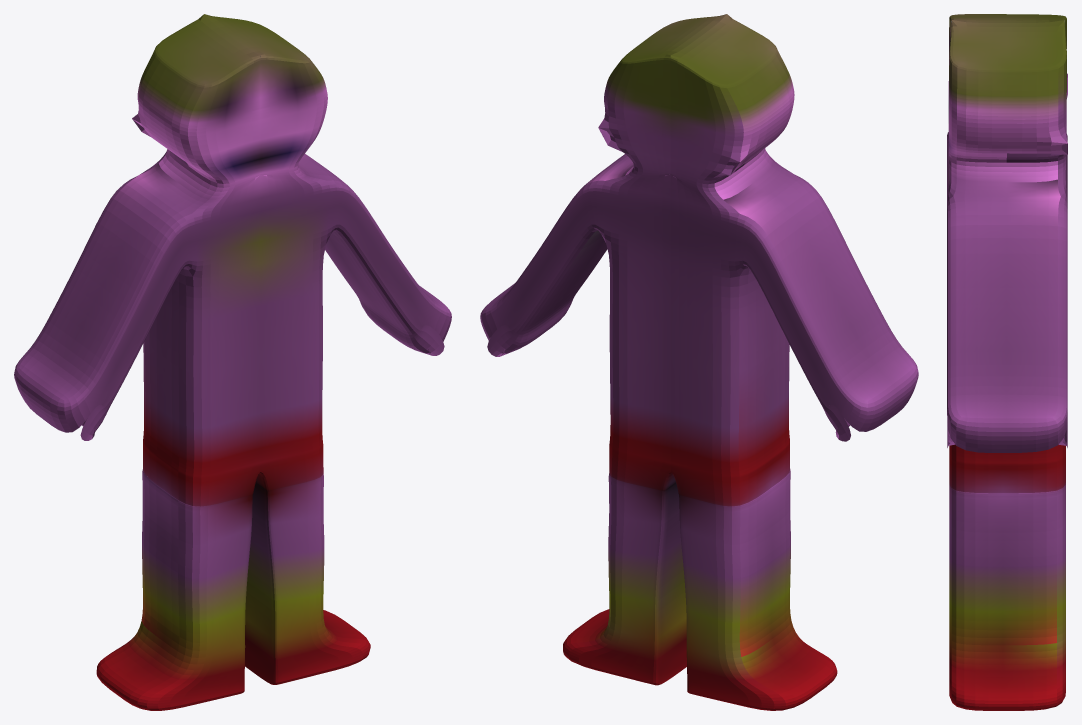
File: personagem1.fbx
3 renders of one model, left to right at view 1: azimuth 30°, elevation 25°; view 2: azimuth 150°, elevation 25°; view 3: azimuth 270°, elevation 25°, orthographic.
Parts seen in each view (by area): view 1: Cube; view 2: Cube; view 3: Cube.
Part boxes in pixels (left/top/right/bottom): Cube: left=14, top=14, right=451, bottom=710; Cube: left=480, top=14, right=918, bottom=710; Cube: left=947, top=14, right=1067, bottom=710.
Bounding box in the file's own units: 797 × 1226 × 210.
